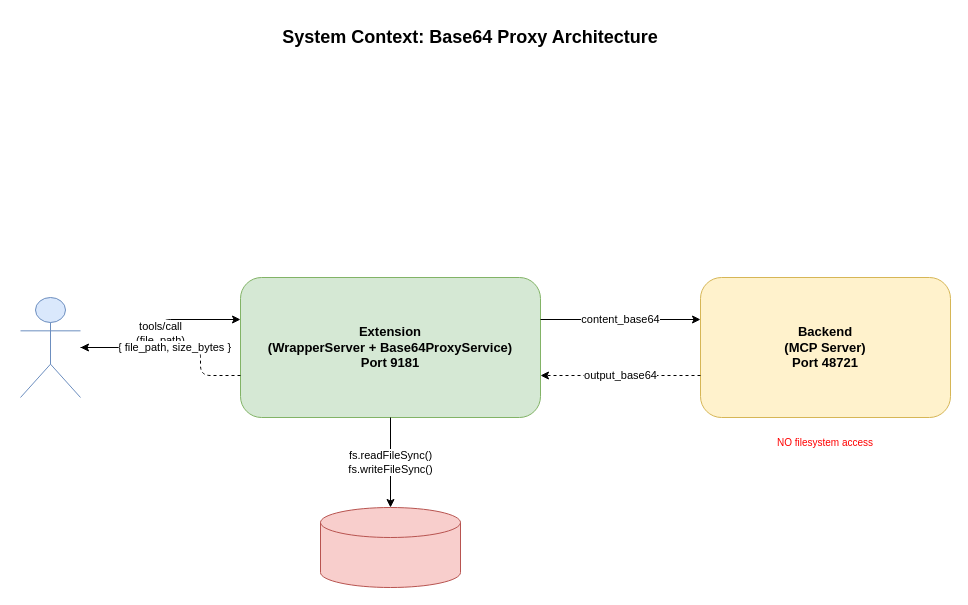
This 968x605 diagram has some shape labels left out. The centre of each missing label's shape, as x and y in pixels:
LLM Agent: [50,347]
Local Filesystem: [390,547]
